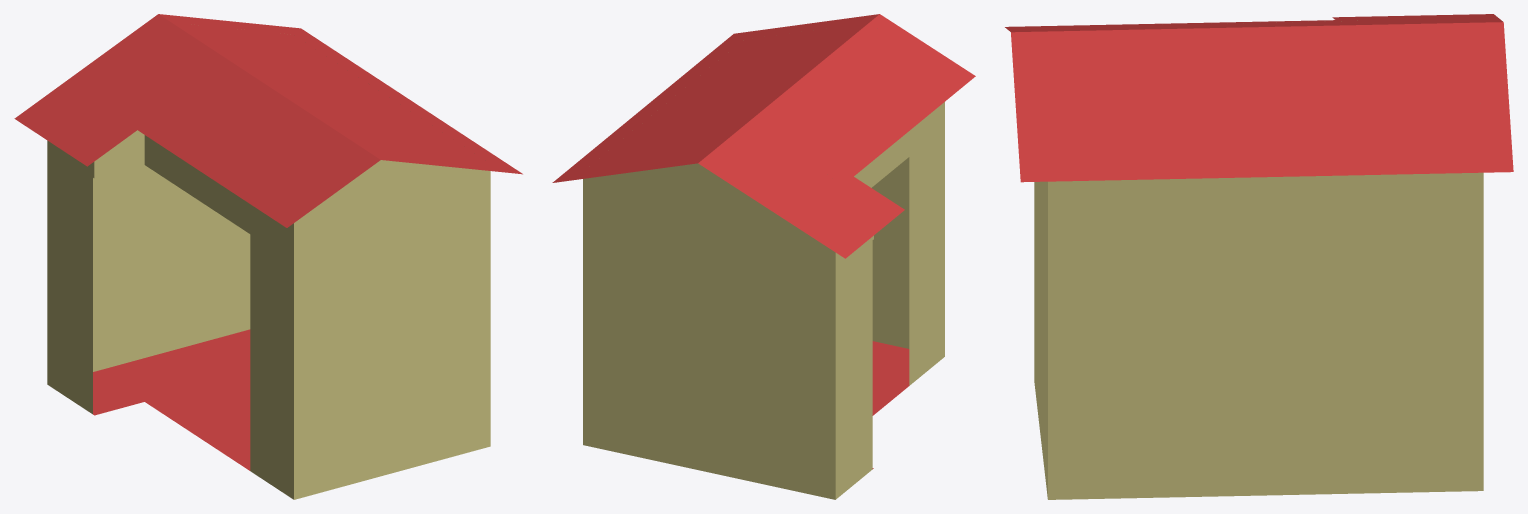
3 views of the same model, side by side, from view 1: azimuth 30°, elevation 25°; view 2: azimuth 150°, elevation 25°; view 3: azimuth 270°, elevation 25° (orthographic). The views are drawn at different scales.
Parts seen in each view (by area): view 1: group_5, group_3, group_6, group_4; view 2: group_5, group_3, group_4, group_6; view 3: group_5, group_3, group_4.
Part boxes in pixels (x1,y1,x2,y2): group_5: (47,130,490,499); group_3: (14,14,490,227); group_6: (93,329,250,470); group_4: (87,14,522,180); group_5: (583,102,944,499); group_3: (583,14,975,258); group_4: (552,14,909,209); group_6: (872,341,909,468); group_5: (1034,20,1483,499); group_3: (1005,14,1508,182); group_4: (1011,17,1513,182).
Bounding box in the file's own units: 11.35 × 13.34 × 11.4.
